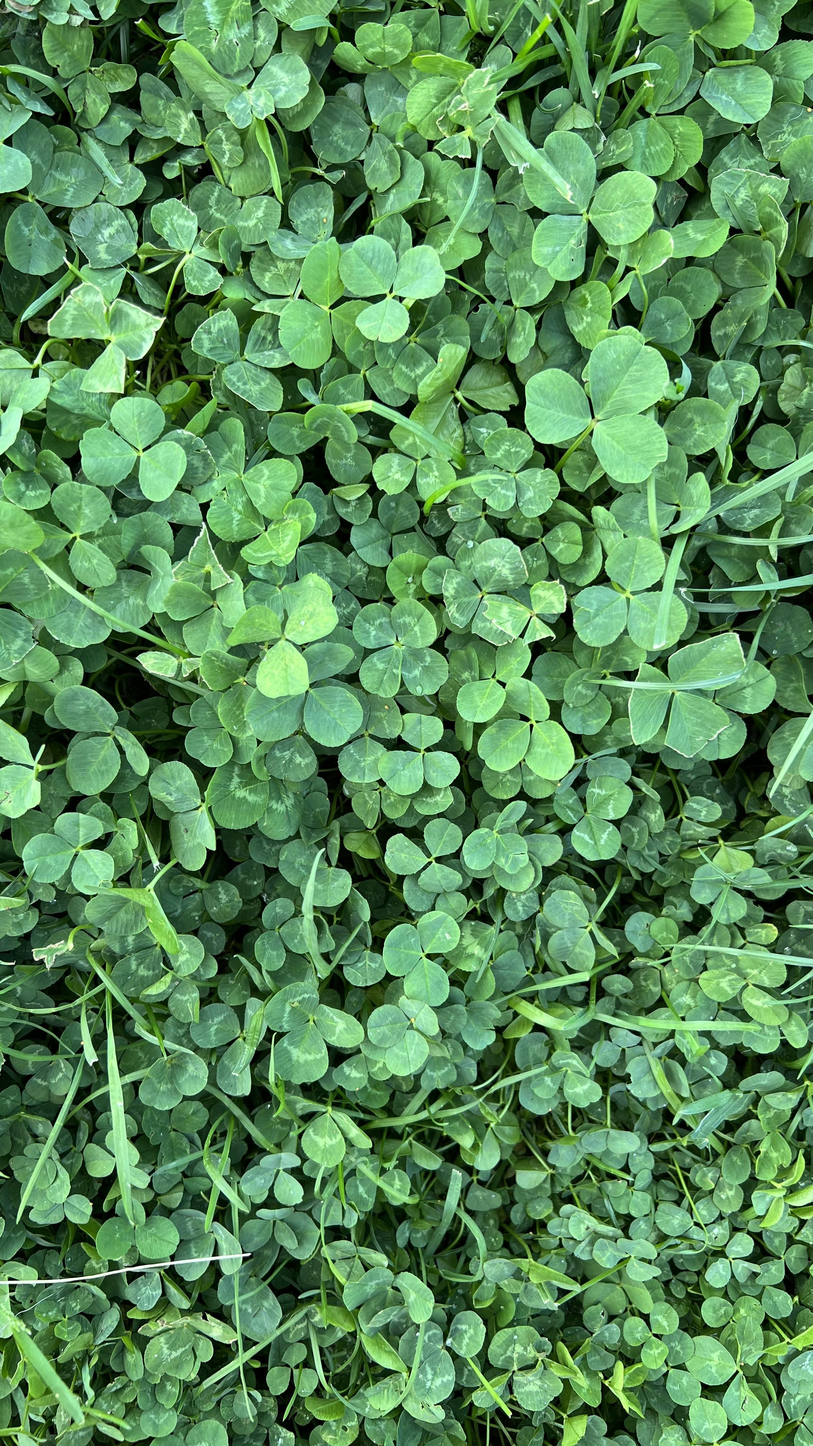4-Leaf-Clovers: (336, 652, 391, 815)
